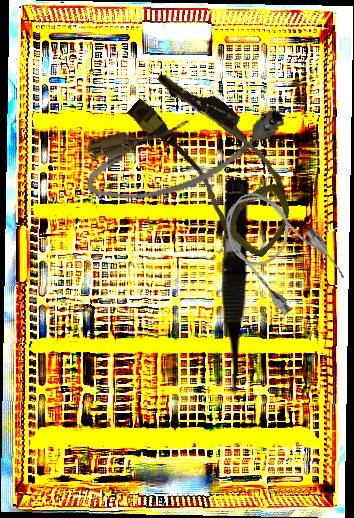Cannula: (110, 59, 323, 261), (77, 95, 296, 213), (207, 174, 351, 323)
Handpiece: (220, 214, 233, 337)
Micro Scissor: (216, 179, 249, 398)
